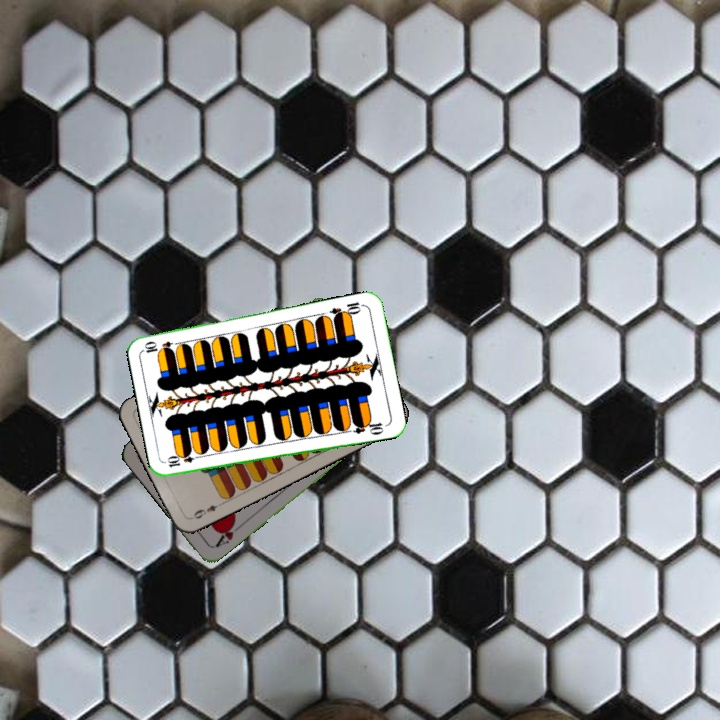E10: (326, 297, 367, 321), (164, 450, 204, 470)
E9: (187, 501, 220, 522)
HA: (211, 517, 245, 550)
